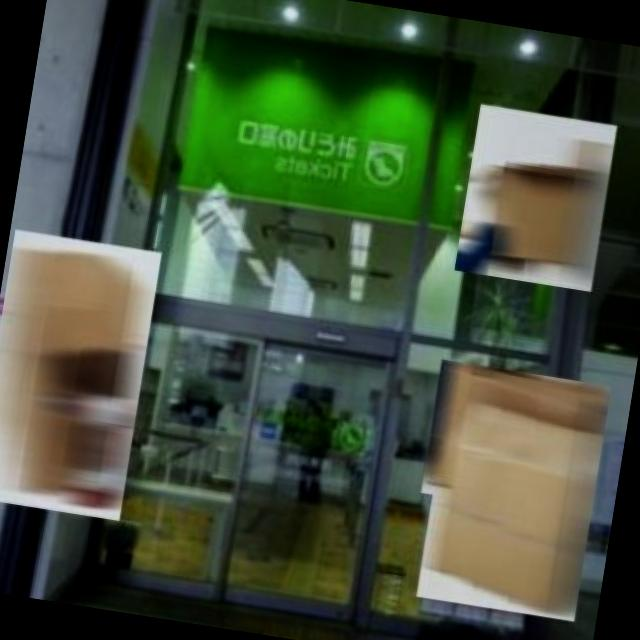box: (0, 224, 164, 528), (412, 389, 610, 626), (416, 356, 614, 524), (450, 101, 620, 296)
